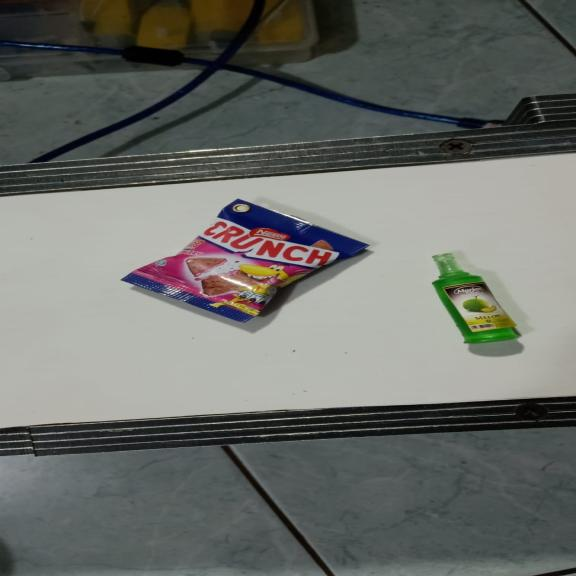Plastik: (121, 198, 370, 323), (431, 253, 523, 344)
